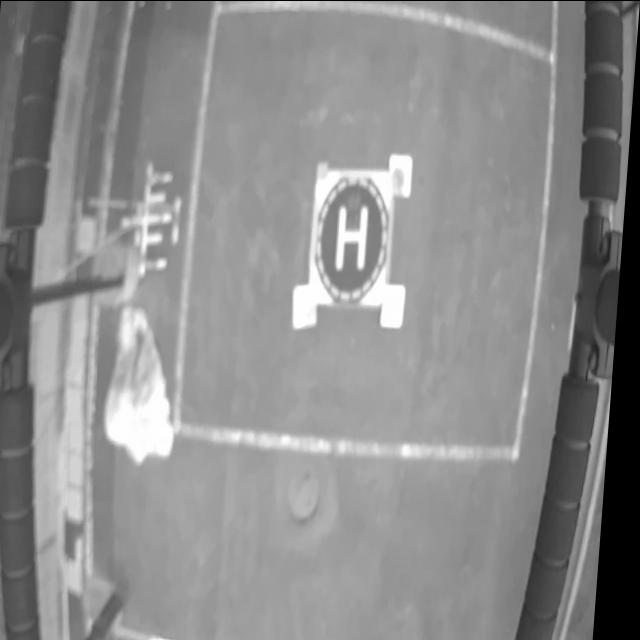Helipad: (337, 201, 372, 270)
